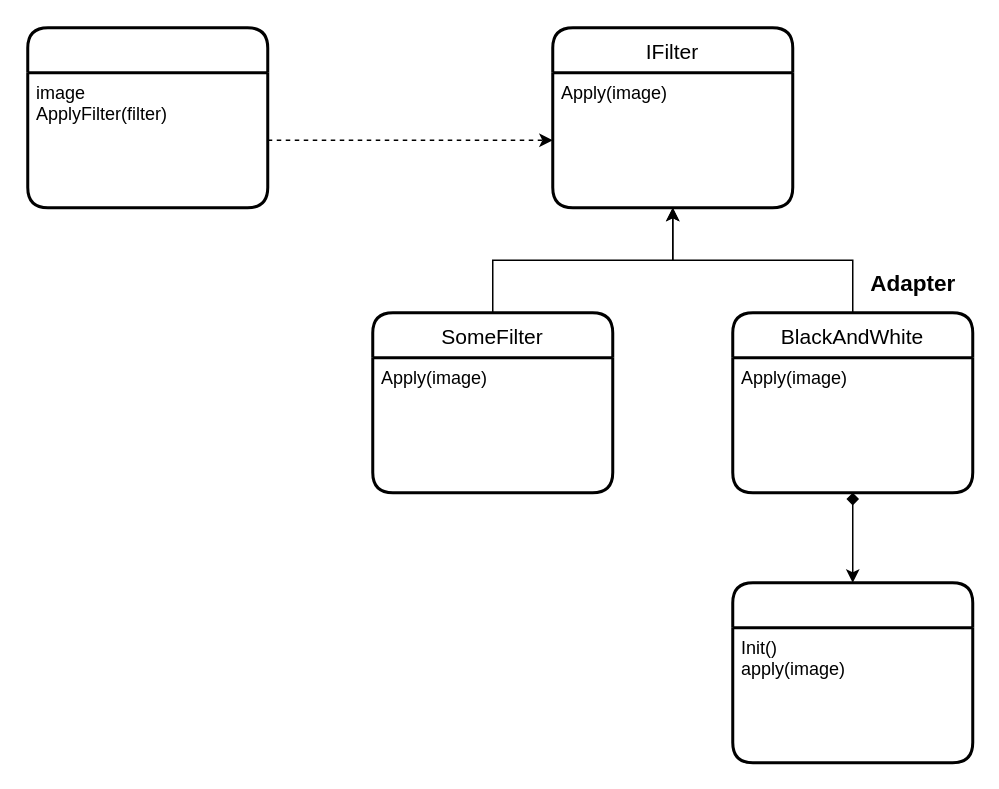
This 999x789 diagram has some shape labels left out. Each missing label, with the box of its shape:
ImageViewer: (26, 26, 268, 208)
ThirdPartyFilter: (730, 580, 974, 764)
